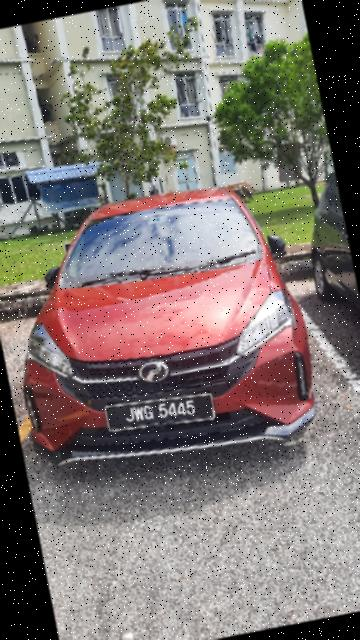License_Plate: (99, 381, 221, 444)
car: (1, 157, 342, 492)
